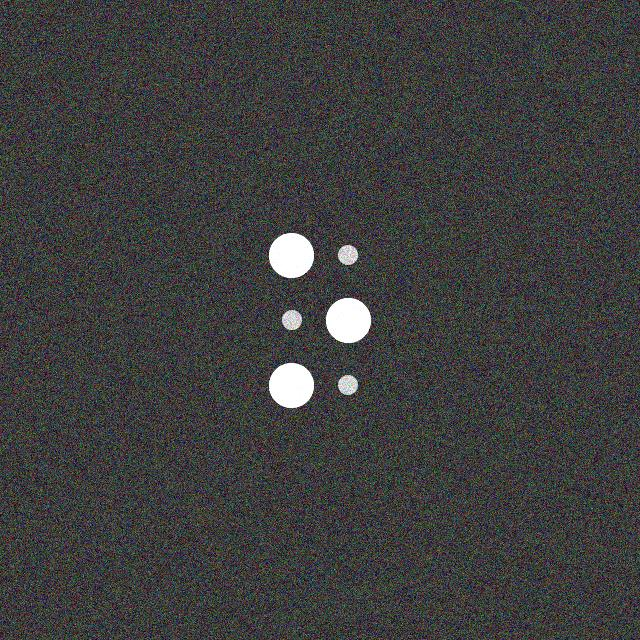O: (263, 229, 373, 415)
